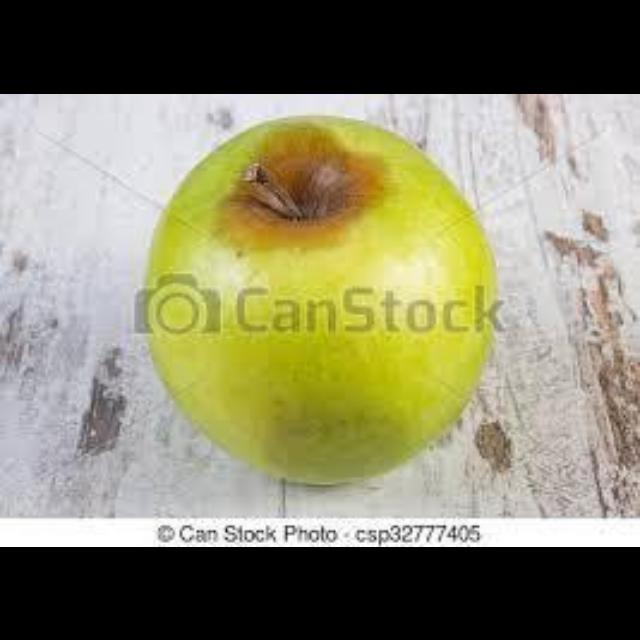apple: (134, 115, 501, 481)
rotten: (209, 127, 397, 251)
